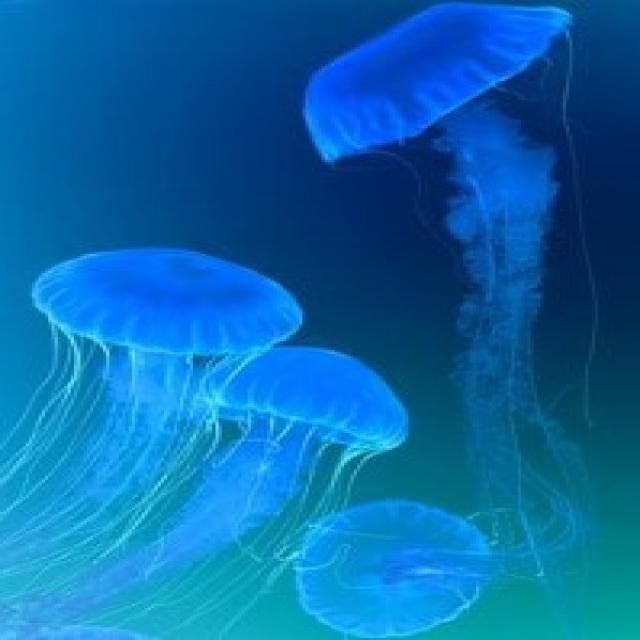jellyfish: (0, 230, 289, 558), (299, 20, 599, 299), (275, 489, 547, 640), (230, 338, 422, 514)
